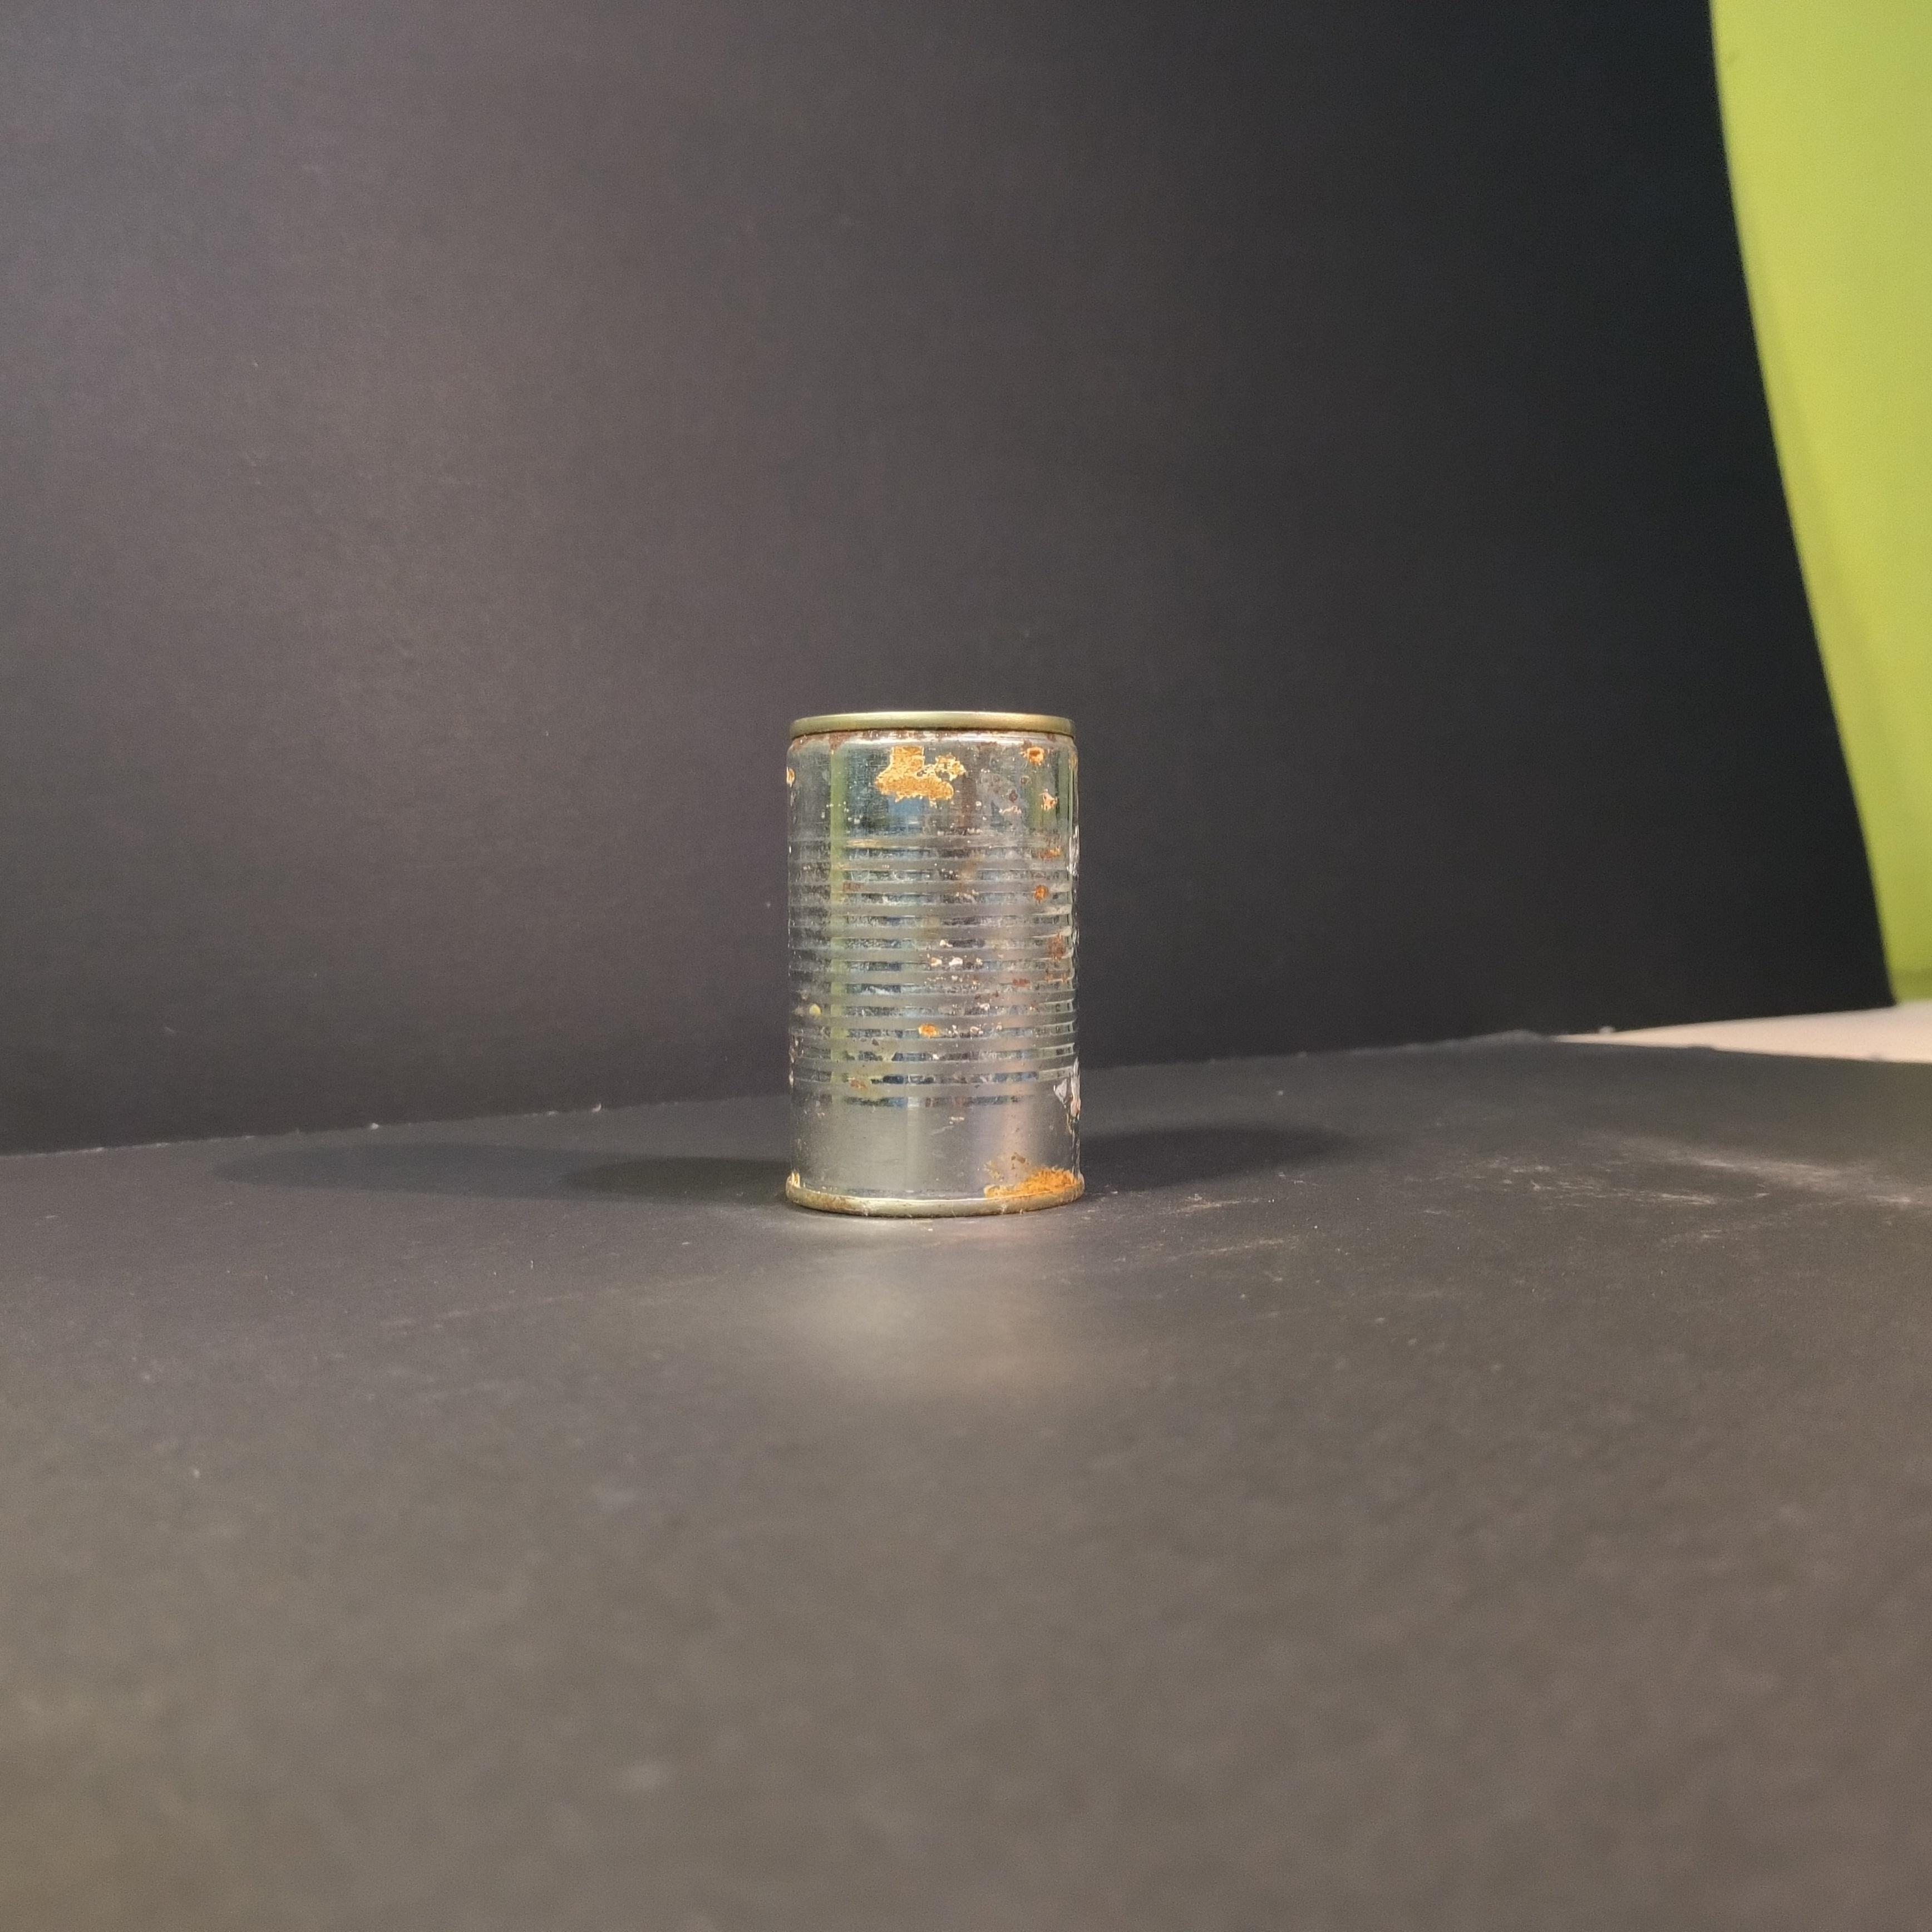Rusted: (771, 681, 1118, 1244)
